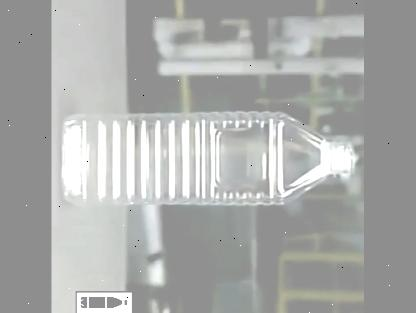Plastic Bottle: (61, 111, 358, 205)
